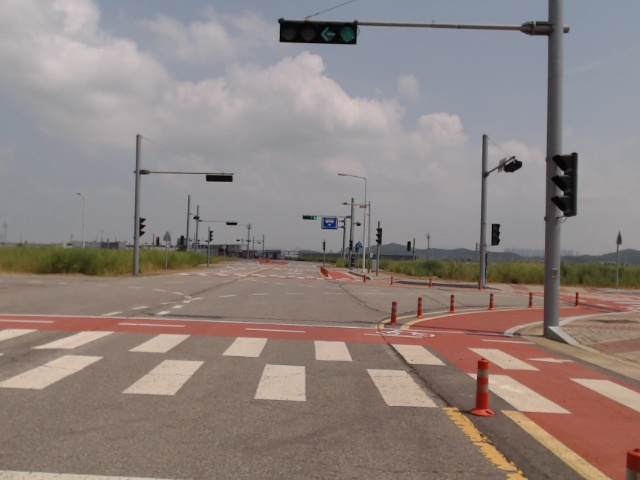all_green_4: (279, 22, 359, 45), (302, 214, 317, 220)
